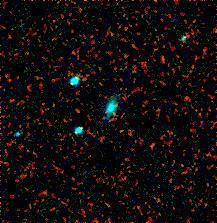star: (165, 12, 195, 42)
